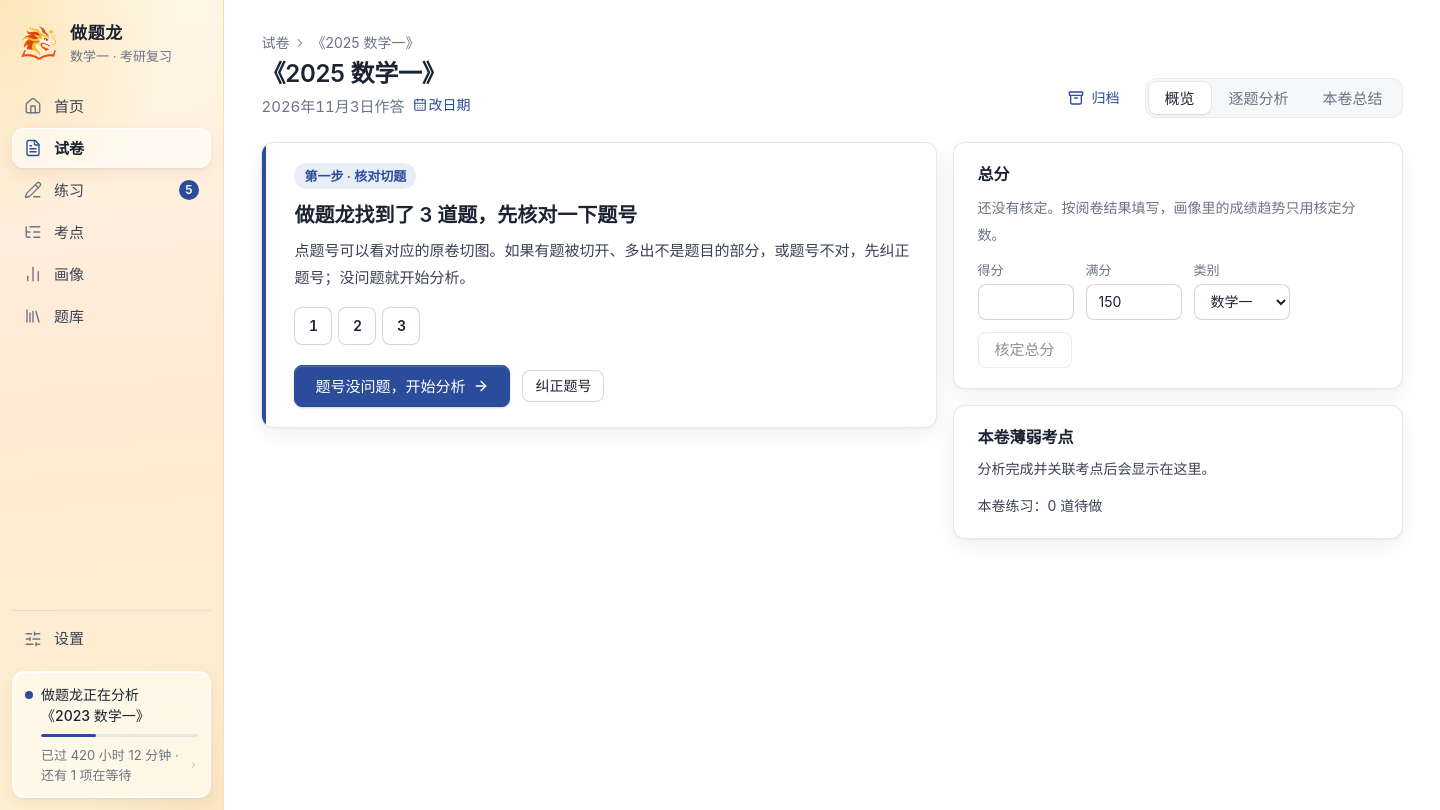
Test: asks to check the question numbers before analysis and starts it after confirming
Later steps or results of the test are not shown.
Expected: the heading "做题龙找到了 3 道题，先核对一下题号" is shown, [294,203,637,227]
Expected: the button "纠正题号" is shown, [522,370,604,402]
Click the button "题号没问题，开始分析": (402, 386) [294,365,510,407]
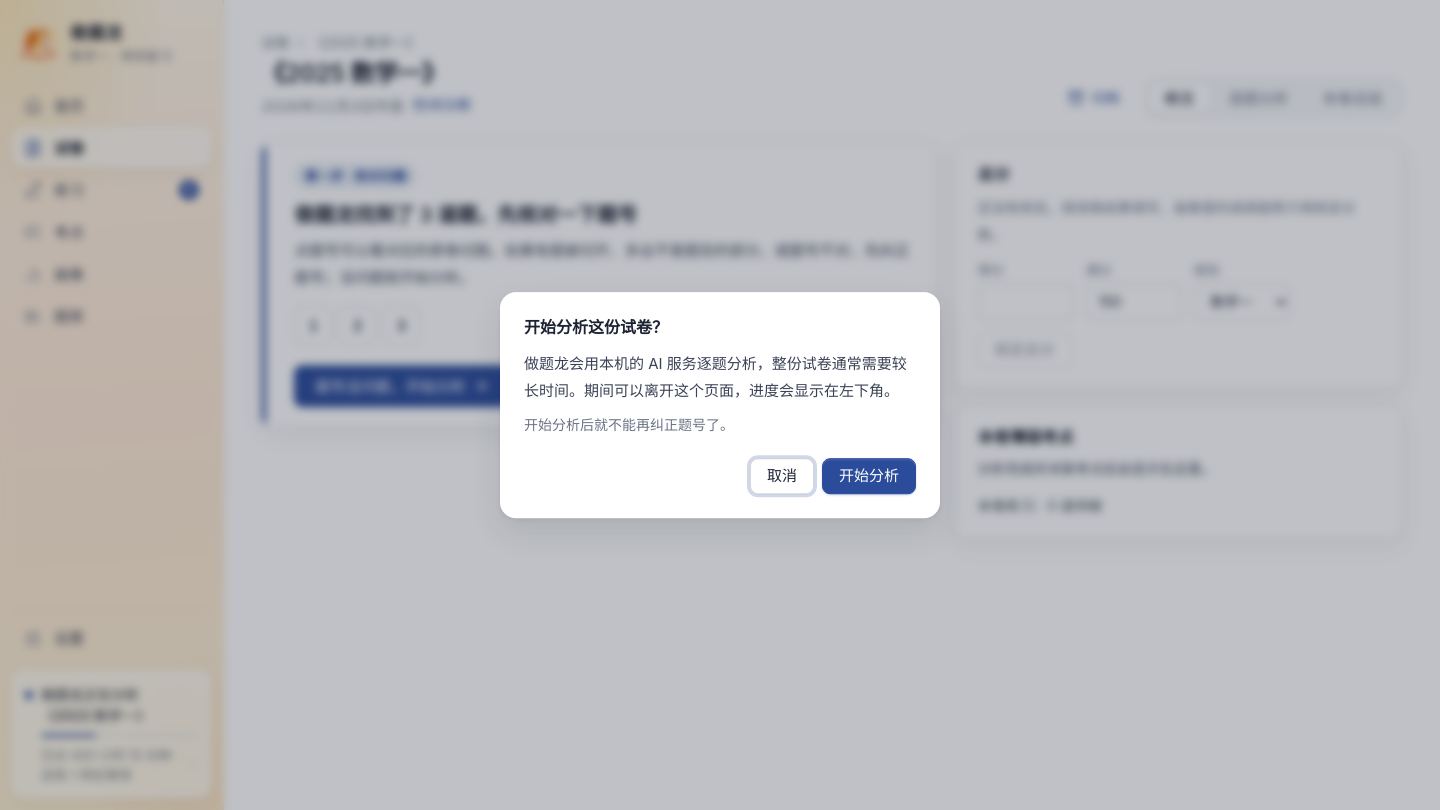
Result: the text "做题龙会用本机的 AI 服务逐题分析，整份试卷通常需要较长时间。期间可以离开这个页面，进度会显示在左下角。" is shown at [524,351,916,405]
